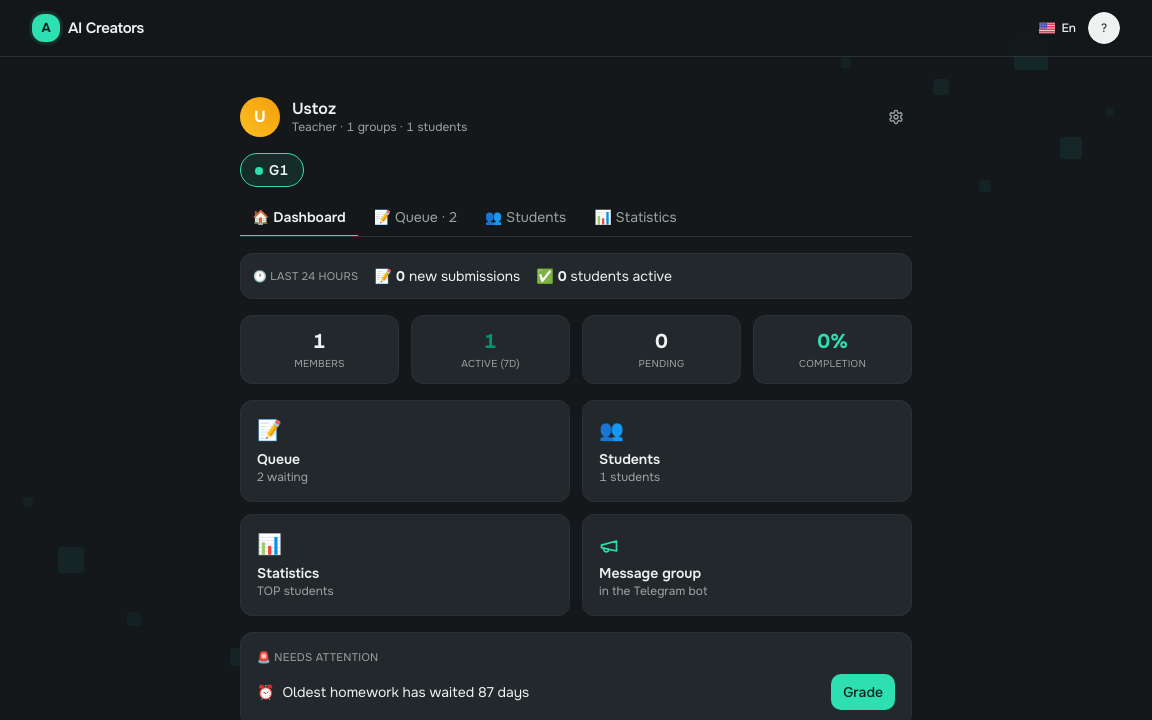
Scenario: TeacherProfile grading queue — pick the score, then send (TUI-7) › tapping a score writes nothing; Send · <score> grades exactly once
Click the tab "📝 Queue · 2" at (415, 222), box [362,207,469,237]
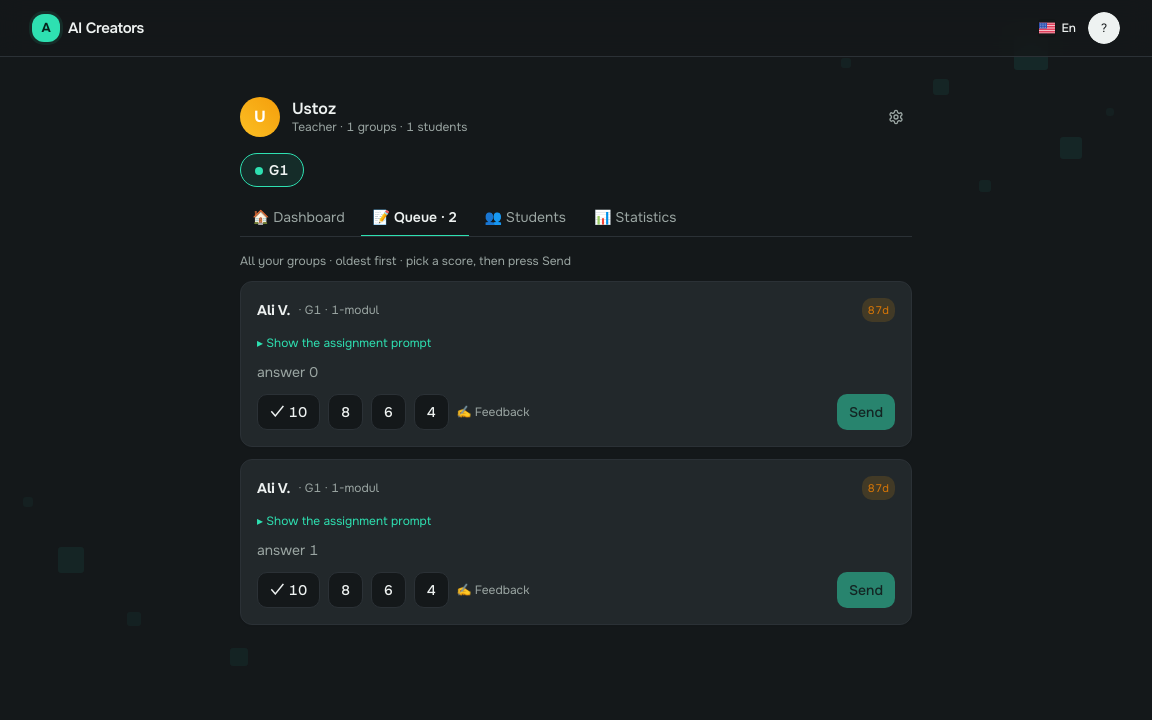
Now the text "answer 0" is shown, box [257,363,318,381]
Click the button "8" below "answer 0" at (346, 412), box [328,394,363,430]
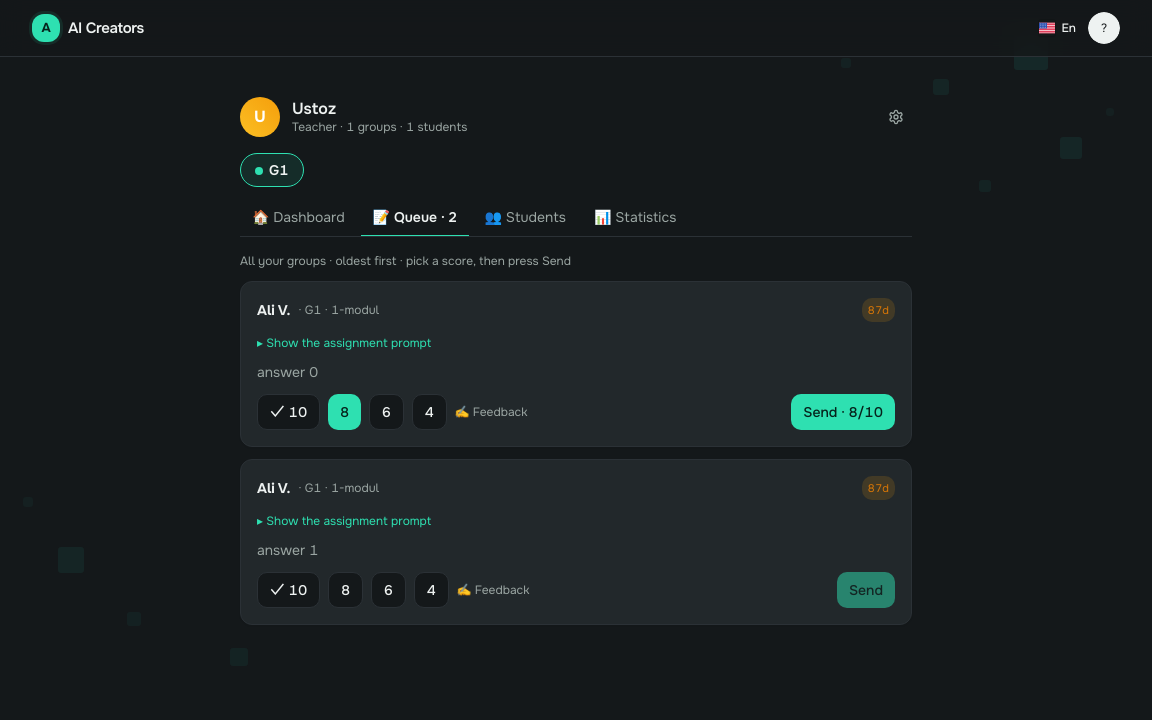
Now the button "8" below "answer 0" is pressed, box [328,394,361,430]
Click the button "Send · 8/10" at (843, 412), box [791,394,895,430]
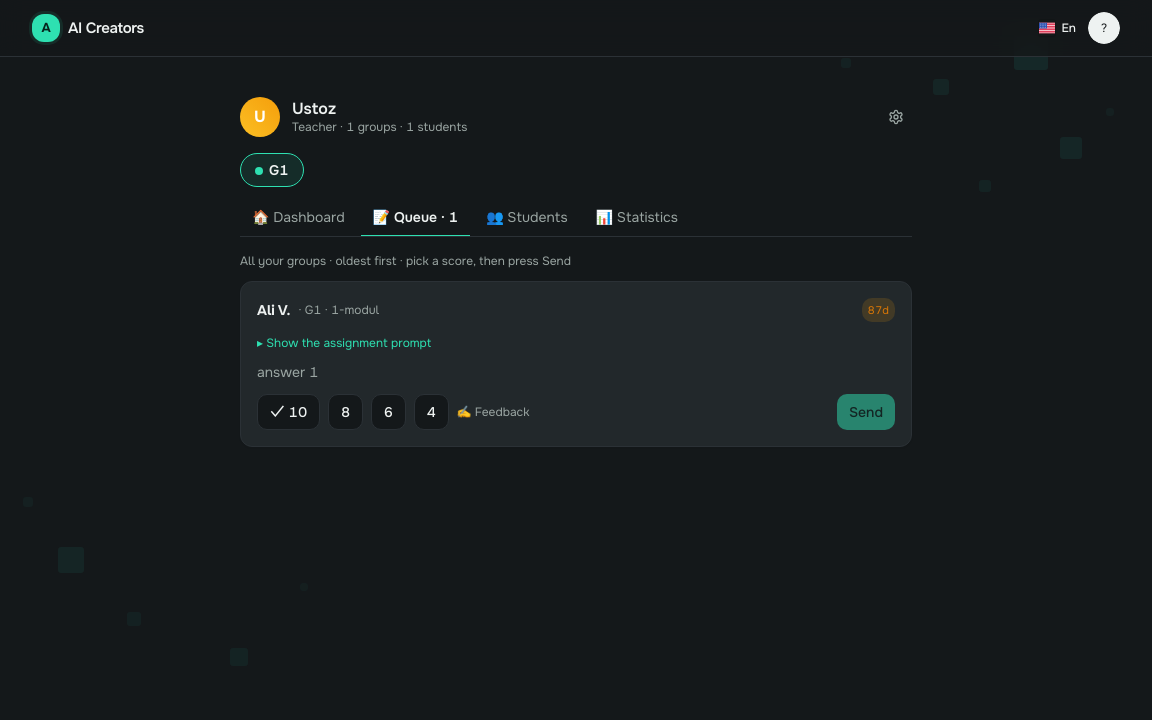
Now the text "answer 1" is shown, box [257,363,318,381]
Now the button "Send" is disabled, box [837,394,895,430]
Now the text "answer 0" is gone
